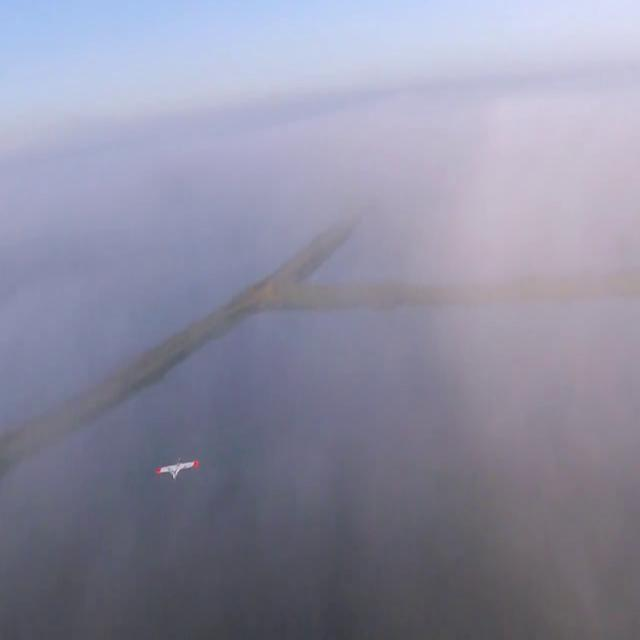iha: (152, 456, 200, 486)
